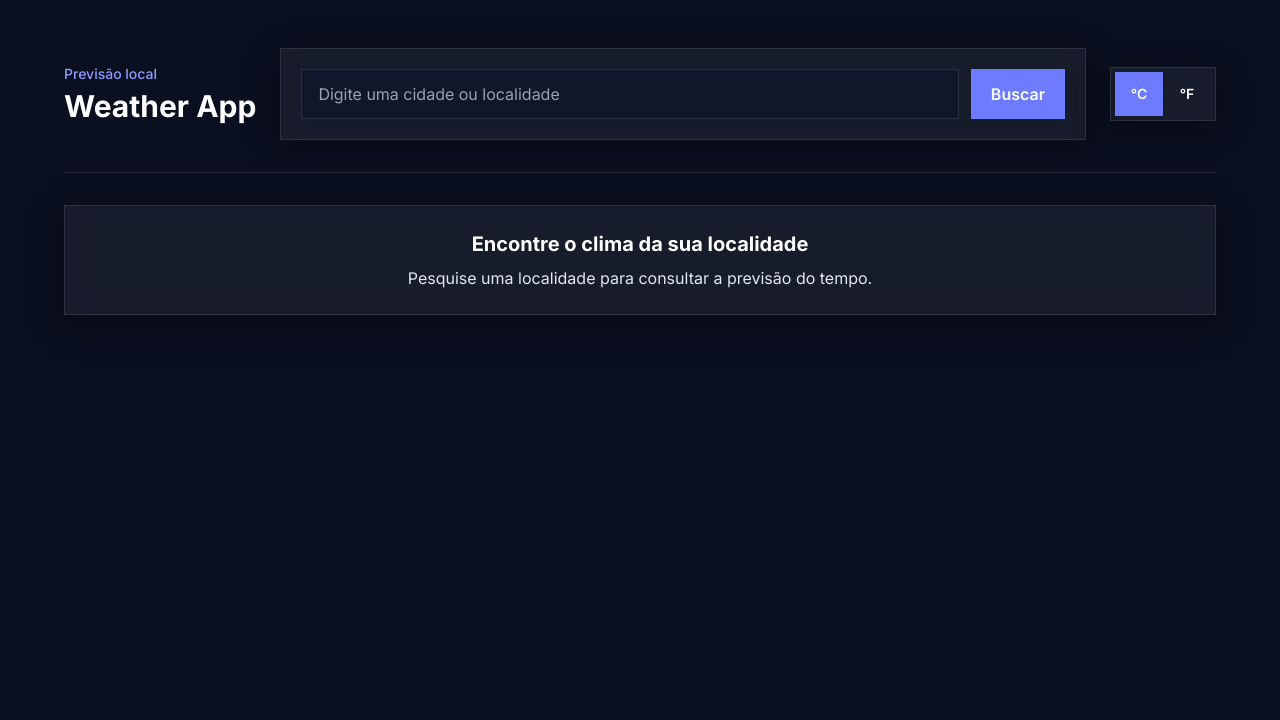
Test: App › renderiza loading enquanto a busca está em andamento
Type "Recife" into the search field named "Pesquisar localidade" at point(630, 94), box [301,69,959,119]
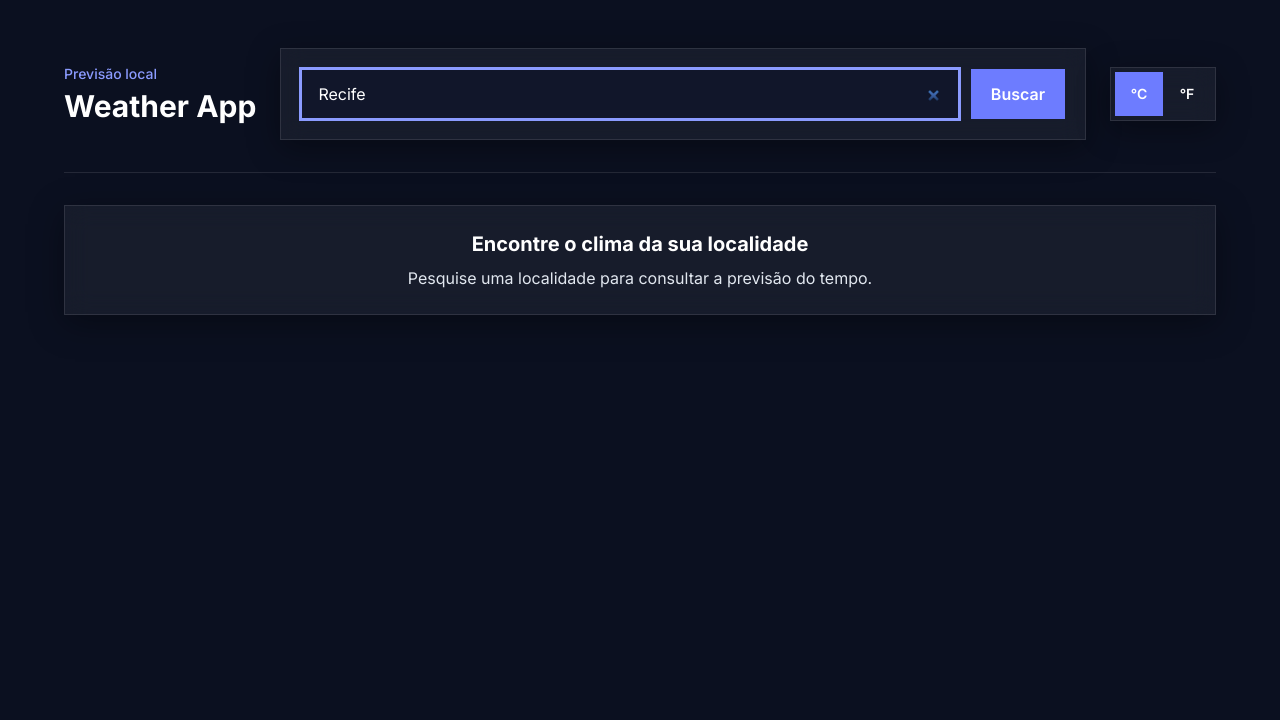
Click the button "Buscar" at point(1018, 94), box [971,69,1065,119]
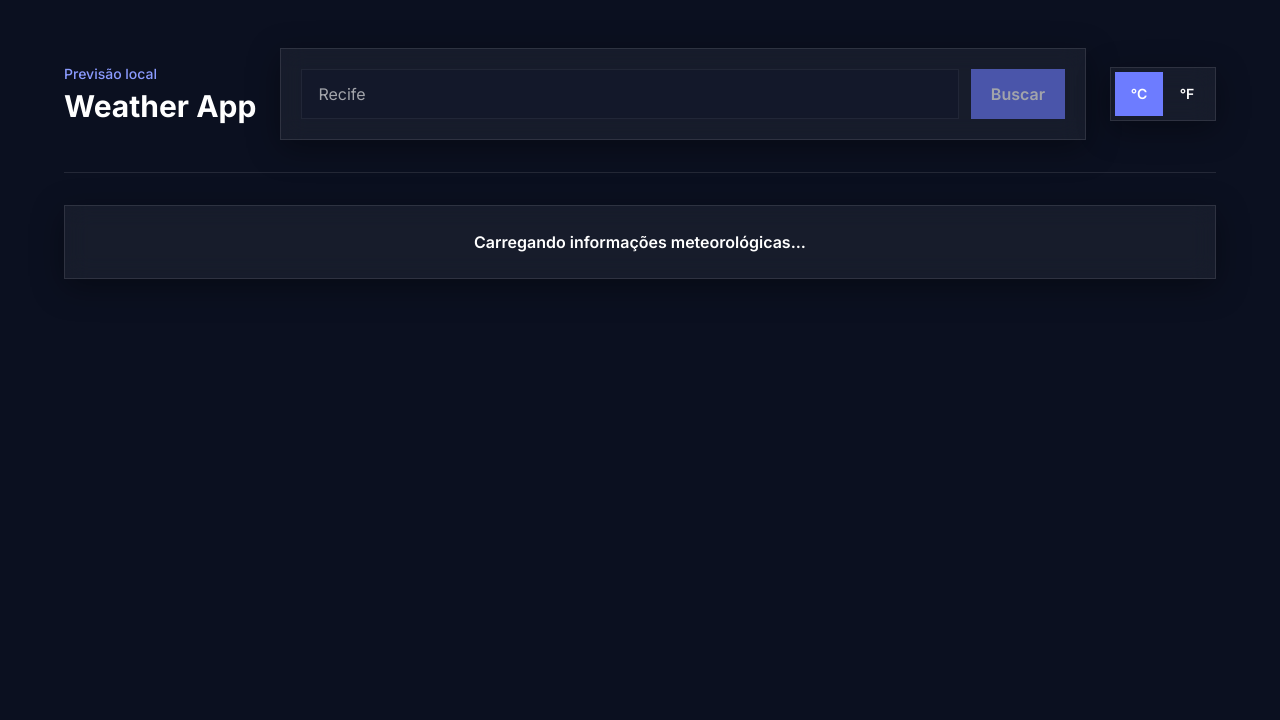
Expected: the message reads "Carregando informações meteorológicas...", [474,232,806,252]
